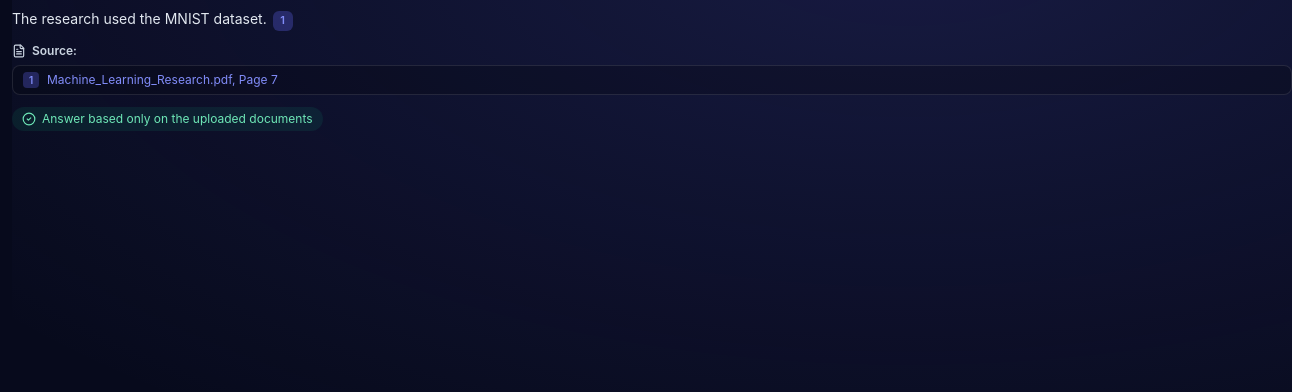
AnswerView › shows the grounded badge and a traceable source (file + page)
expect the text "Answer based only on the uploaded documents" is shown: met, box [12,107,323,131]
Click the text "Machine_Learning_Research.pdf, Page 7" at (162, 80), box [47,72,278,88]
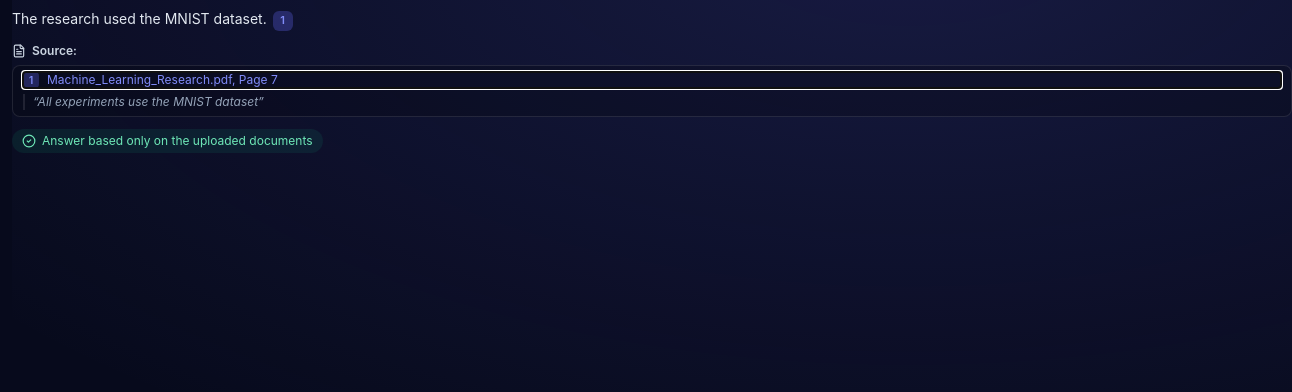
expect the text "“All experiments use the MNIST dataset”" is shown: met, box [23,94,1281,110]
